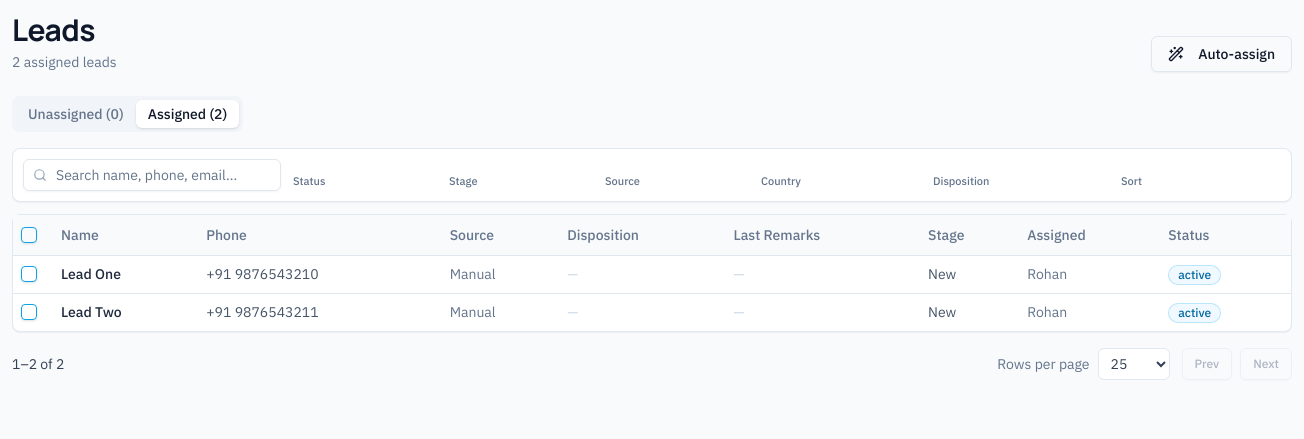
Scenario: Leads reverse to unassigned › shows reverse action after selecting all assigned-page leads
Click the checkbox with test id "leads-select-all": (29, 235) [21, 227, 37, 243]
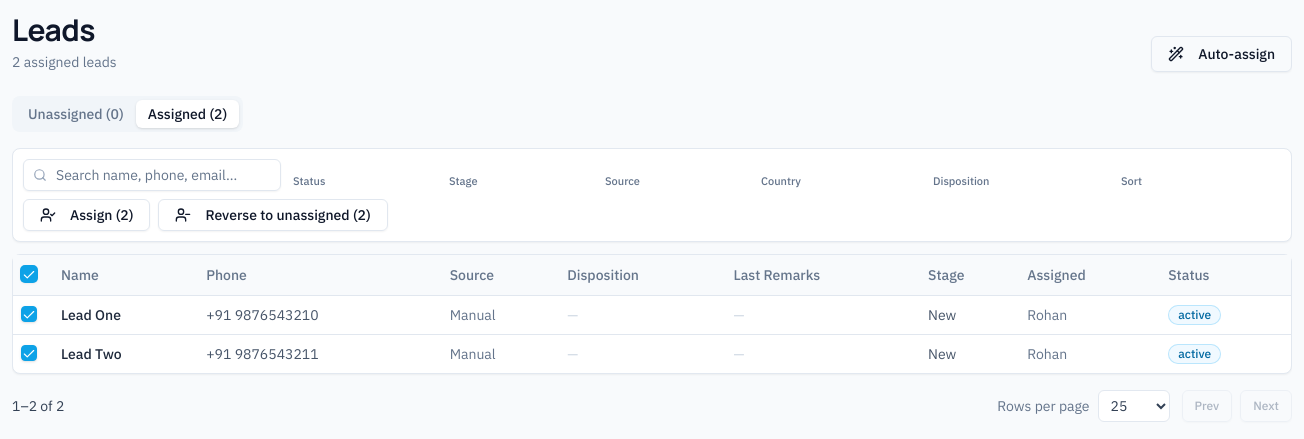
Expected: the button with test id "assign-selected-btn" reads "Assign (2)", [23, 199, 150, 231]
Expected: the button with test id "unassign-selected-btn" reads "Reverse to unassigned (2)", [158, 199, 388, 231]
